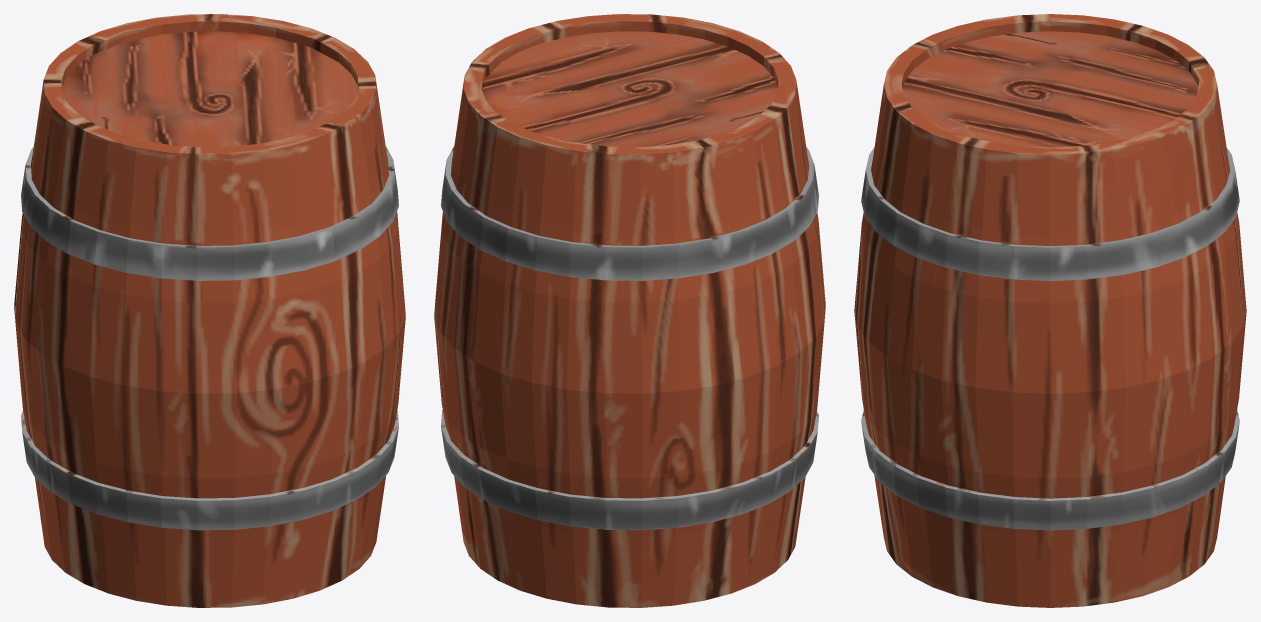
Rendered from Barrel.fbx.
The picture shows the model from 3 angles, left to right: view 1: azimuth 30°, elevation 25°; view 2: azimuth 150°, elevation 25°; view 3: azimuth 270°, elevation 25°; orthographic projection.
Parts seen in each view (by area): view 1: Barrel; view 2: Barrel; view 3: Barrel.
Boxes of the visible parts, x1,y1,x2,y2 form: Barrel: [14, 14, 405, 607]; Barrel: [434, 14, 825, 607]; Barrel: [854, 14, 1246, 607].
Bounding box in the file's own units: 1.01 × 1.28 × 1.01.
